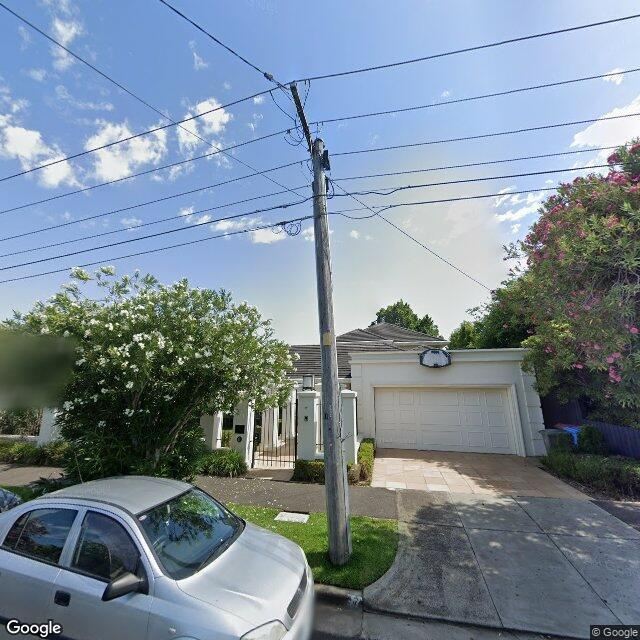crossarm: (290, 81, 314, 153)
timber-pole: (313, 138, 353, 565)
